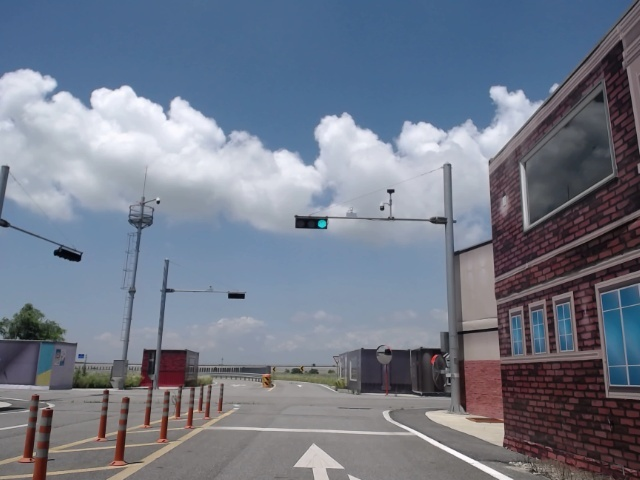green_3: (296, 219, 326, 228)
